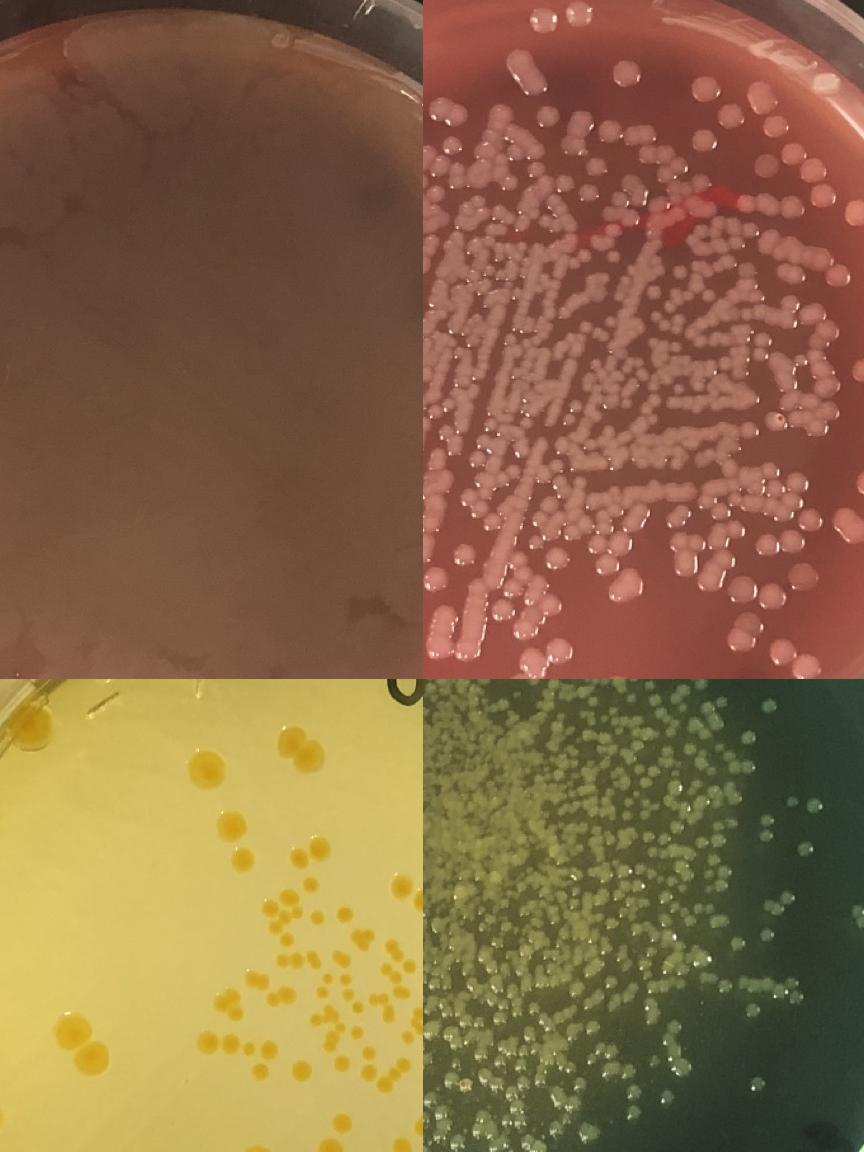vangil: (714, 740, 758, 776), (700, 853, 734, 894), (698, 694, 732, 730), (770, 974, 806, 1006), (770, 886, 798, 918), (687, 900, 716, 928), (475, 1068, 505, 1092), (720, 780, 744, 808), (693, 832, 728, 850), (642, 679, 664, 707), (759, 811, 776, 846), (442, 1074, 474, 1092), (667, 875, 689, 897), (423, 1110, 433, 1152), (621, 796, 636, 824), (642, 832, 658, 858), (806, 794, 824, 816), (625, 1084, 643, 1102), (583, 1052, 601, 1070), (717, 978, 735, 996), (728, 936, 746, 954), (796, 840, 814, 858), (667, 818, 685, 836), (740, 730, 758, 748), (760, 696, 778, 714), (570, 1076, 588, 1093), (750, 1076, 768, 1093), (602, 1044, 620, 1061), (745, 1003, 763, 1020), (691, 754, 709, 771), (626, 1104, 644, 1120), (621, 1064, 639, 1080), (646, 1054, 664, 1070), (760, 926, 776, 944), (784, 793, 800, 811), (423, 1090, 438, 1108), (584, 1020, 602, 1035), (666, 1020, 684, 1035), (666, 779, 684, 794), (658, 1092, 676, 1106), (694, 679, 712, 692), (568, 982, 584, 996), (427, 978, 440, 992), (646, 868, 658, 882), (633, 762, 645, 776), (684, 742, 696, 756), (664, 726, 676, 740), (588, 696, 600, 710), (625, 690, 637, 704), (511, 687, 523, 701), (640, 809, 652, 822), (641, 777, 653, 790)
vharveyi: (763, 458, 823, 554), (780, 140, 837, 208), (55, 1014, 113, 1078), (507, 635, 573, 679), (690, 216, 760, 256), (588, 490, 630, 554), (366, 962, 410, 1023), (598, 120, 658, 164), (275, 726, 326, 772), (768, 636, 821, 679), (10, 704, 55, 750), (488, 576, 528, 627), (309, 1002, 348, 1053), (728, 611, 768, 652), (196, 1030, 255, 1056), (759, 394, 797, 434), (289, 834, 331, 870), (262, 900, 306, 933), (510, 52, 545, 92), (376, 1056, 411, 1096), (649, 300, 685, 337), (189, 752, 225, 788), (428, 96, 467, 128), (657, 146, 687, 183), (216, 809, 248, 840), (708, 493, 742, 522), (214, 988, 244, 1020), (788, 562, 818, 592), (275, 950, 325, 968), (537, 590, 565, 622), (401, 1005, 423, 1045), (758, 581, 786, 612), (616, 568, 644, 598), (590, 223, 620, 251), (454, 634, 482, 663), (542, 544, 570, 572), (461, 490, 489, 518), (751, 332, 773, 366), (739, 196, 776, 216), (753, 152, 779, 180), (692, 128, 720, 154), (692, 76, 720, 102), (567, 1, 593, 28), (530, 163, 554, 192), (423, 566, 449, 592), (826, 262, 852, 288), (779, 195, 805, 221), (583, 154, 609, 180), (762, 113, 788, 139), (535, 102, 561, 128), (720, 102, 746, 128), (749, 87, 775, 113), (614, 60, 640, 86), (532, 6, 558, 32), (349, 927, 374, 953), (264, 987, 296, 1006), (538, 212, 565, 234), (290, 1058, 314, 1082), (388, 874, 412, 898), (232, 847, 256, 871), (316, 972, 336, 1000), (447, 160, 466, 189), (844, 517, 864, 543), (242, 970, 268, 990), (384, 936, 405, 960), (845, 198, 864, 224), (332, 1112, 354, 1134), (259, 1038, 281, 1060), (554, 475, 572, 500), (330, 948, 352, 968), (724, 520, 748, 538), (387, 1134, 411, 1152), (438, 422, 456, 445), (580, 184, 600, 204), (722, 456, 739, 478), (687, 534, 707, 552), (781, 295, 801, 313), (444, 138, 464, 156), (239, 1142, 275, 1152), (333, 1053, 351, 1073), (492, 472, 510, 490), (810, 419, 828, 437), (800, 394, 818, 412), (820, 322, 838, 340), (803, 305, 821, 323), (852, 357, 864, 383), (823, 402, 840, 420), (814, 362, 831, 380), (600, 554, 616, 572), (510, 550, 526, 568), (456, 546, 472, 564), (530, 508, 546, 526), (820, 74, 836, 92), (320, 1140, 344, 1152), (281, 932, 297, 950), (430, 448, 446, 465), (702, 288, 718, 305), (692, 174, 708, 191), (361, 1064, 377, 1081), (596, 434, 612, 450), (672, 264, 688, 280), (650, 198, 666, 214), (610, 190, 626, 206), (630, 190, 646, 206), (252, 1064, 268, 1080), (362, 1044, 378, 1060), (310, 910, 326, 926), (339, 906, 355, 922), (281, 888, 297, 904), (504, 174, 519, 191), (558, 174, 573, 191), (621, 174, 638, 189), (304, 875, 319, 892), (566, 506, 582, 521), (576, 250, 592, 265), (429, 186, 445, 201), (403, 958, 419, 973), (530, 534, 544, 550), (486, 514, 500, 530), (471, 454, 487, 468), (648, 286, 662, 302), (608, 252, 624, 266), (576, 112, 590, 128), (413, 889, 423, 911), (856, 467, 864, 494), (645, 412, 659, 427), (620, 396, 634, 410), (670, 340, 684, 354), (580, 319, 594, 333), (681, 288, 695, 302), (350, 1025, 364, 1039), (352, 1000, 366, 1014), (341, 989, 355, 1003), (338, 972, 352, 986), (674, 382, 686, 396), (418, 1113, 423, 1135), (423, 173, 427, 191)
